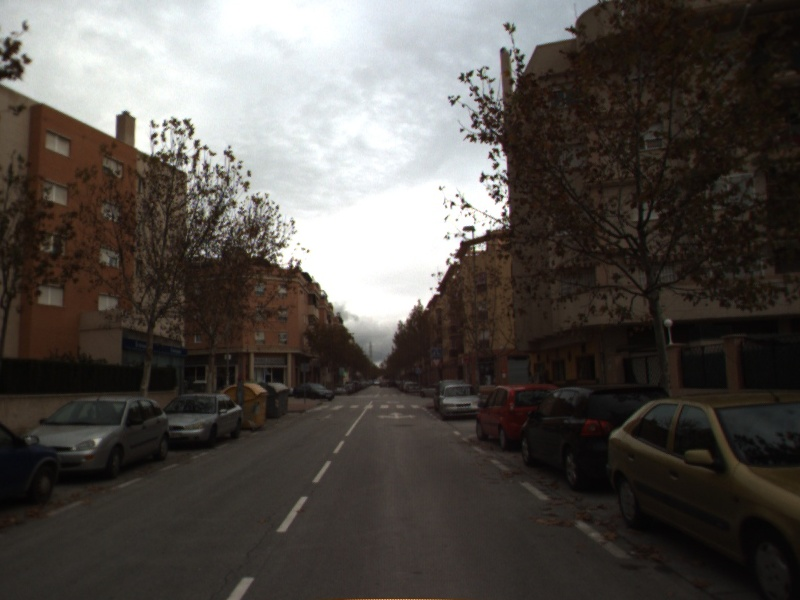STRAIGHT_LEFT_RIGHT: (375, 409, 419, 422)
